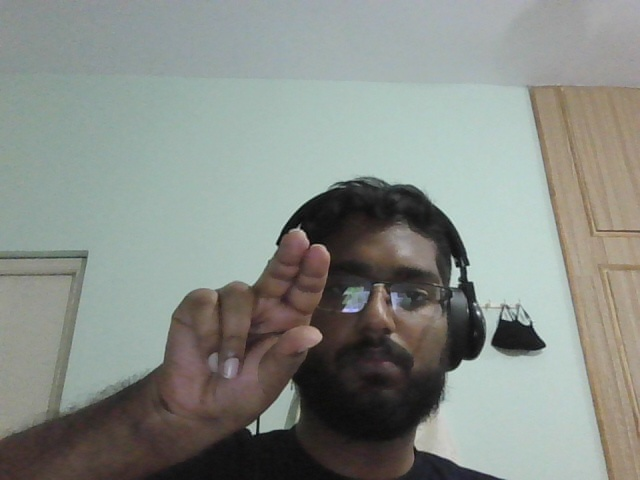No: (160, 221, 346, 423)
